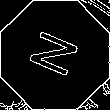N_SE: (24, 27, 86, 83)
